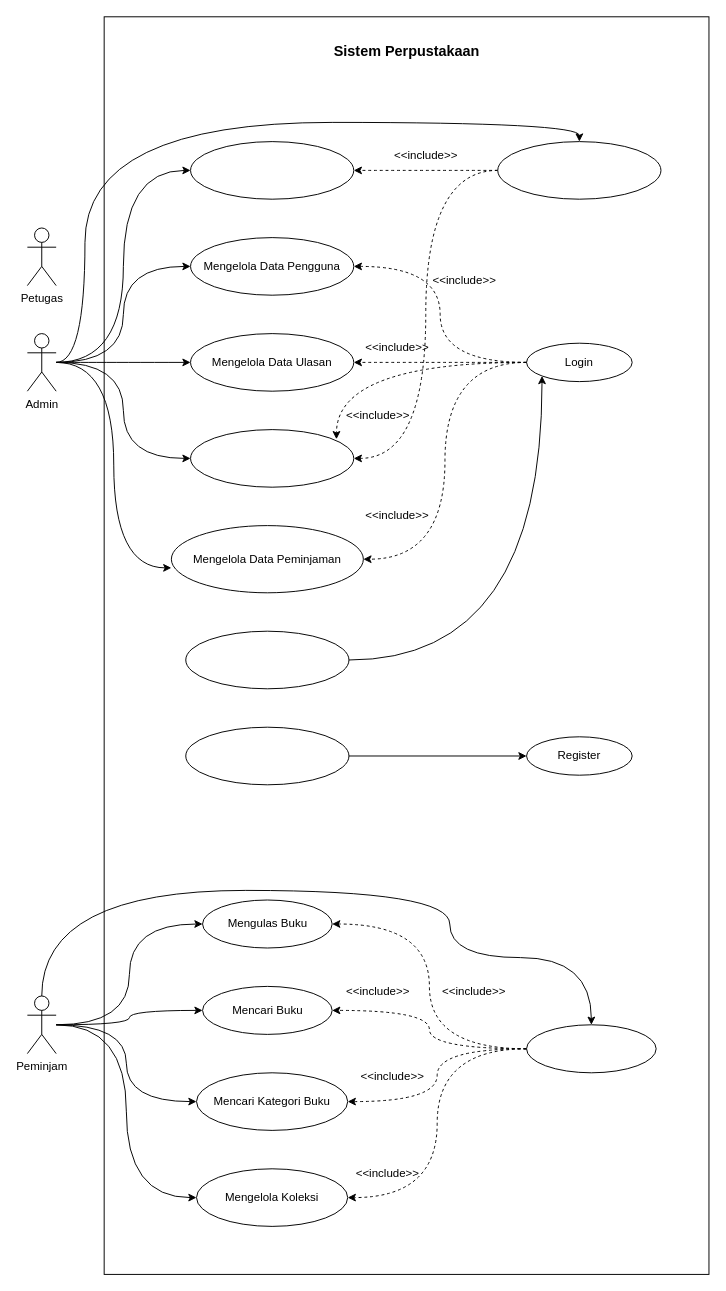
This 726x1291 diagram has some shape labels left out. Here are the shapes that lost their labels. From the top down, the centre of each, then its label:
the point at 272,170: Mengelola Data Kategori
the point at 579,170: Mengelola Data Buku
the point at 272,458: Generate Laporan
the point at 267,659: Admin, Petugas, Peminjam
the point at 267,755: Admin, Peminjam
the point at 591,1048: Meminjam Buku
